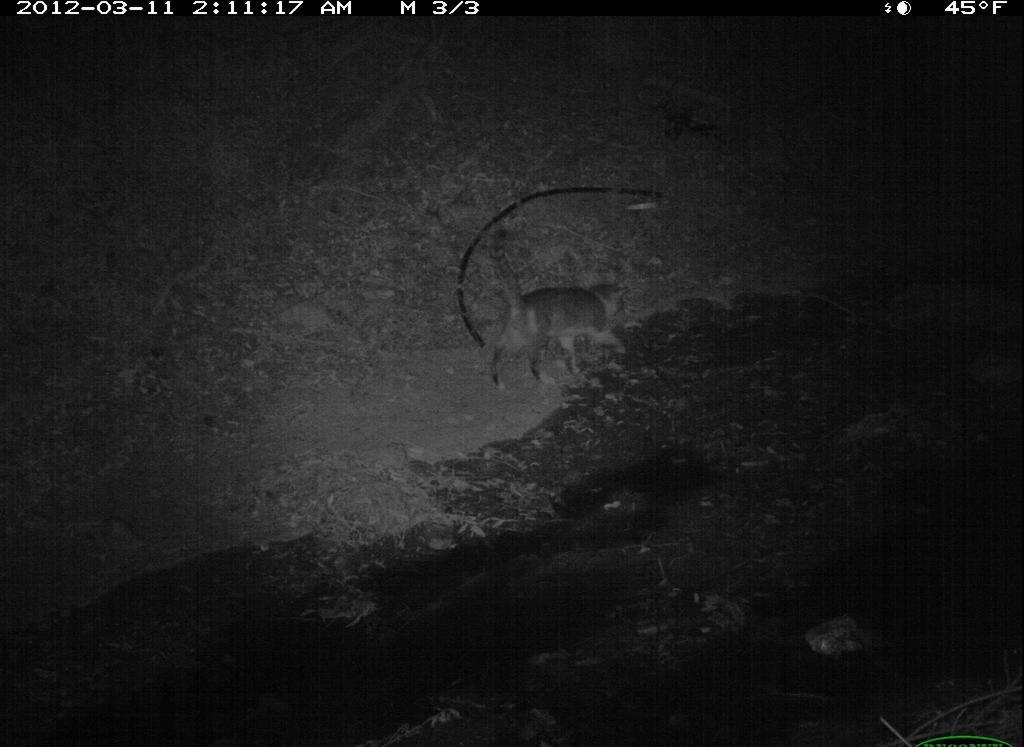cat: (482, 221, 644, 406)
